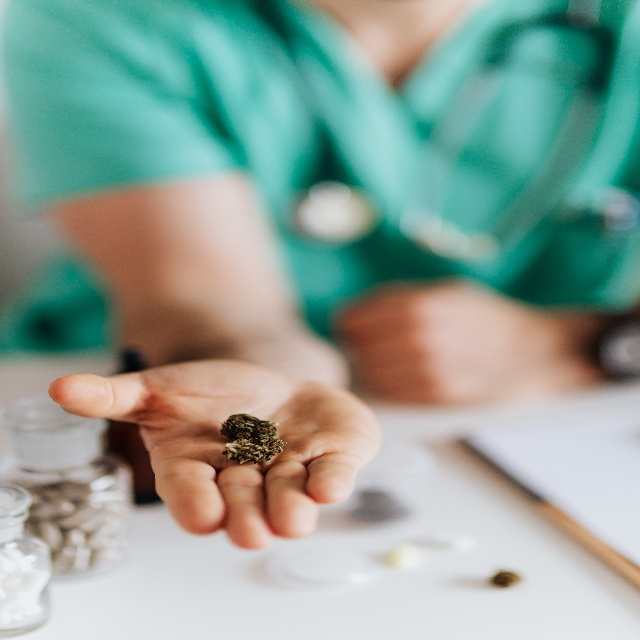Sin_guantes: (42, 354, 385, 553), (337, 275, 550, 408)
